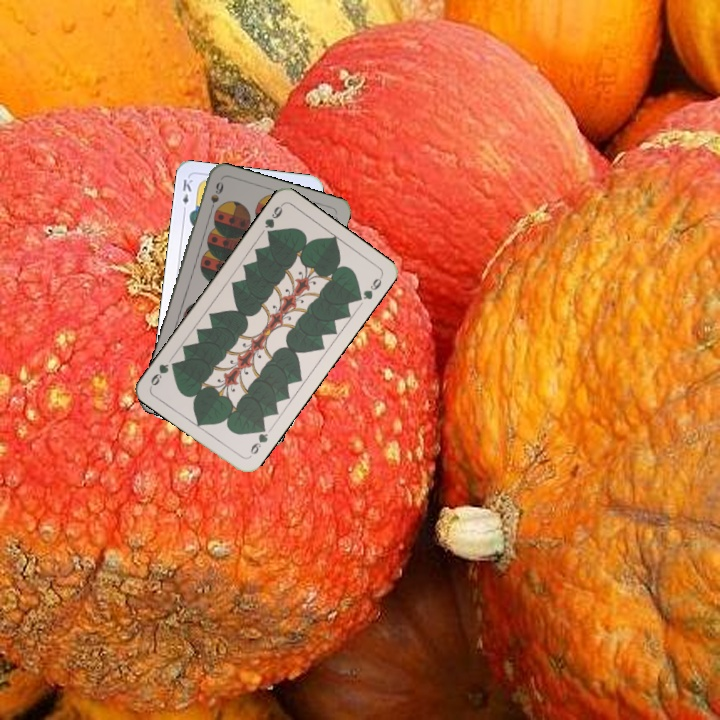EK: (178, 175, 195, 215)
G9: (245, 421, 274, 460), (260, 200, 285, 239)
S9: (205, 178, 226, 217)
